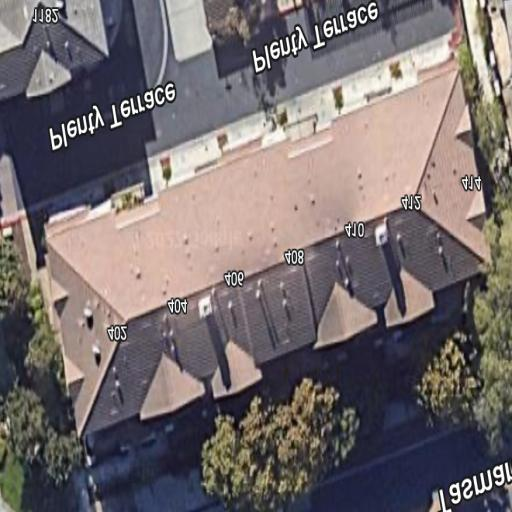Slope-Roof: (42, 52, 492, 443)
